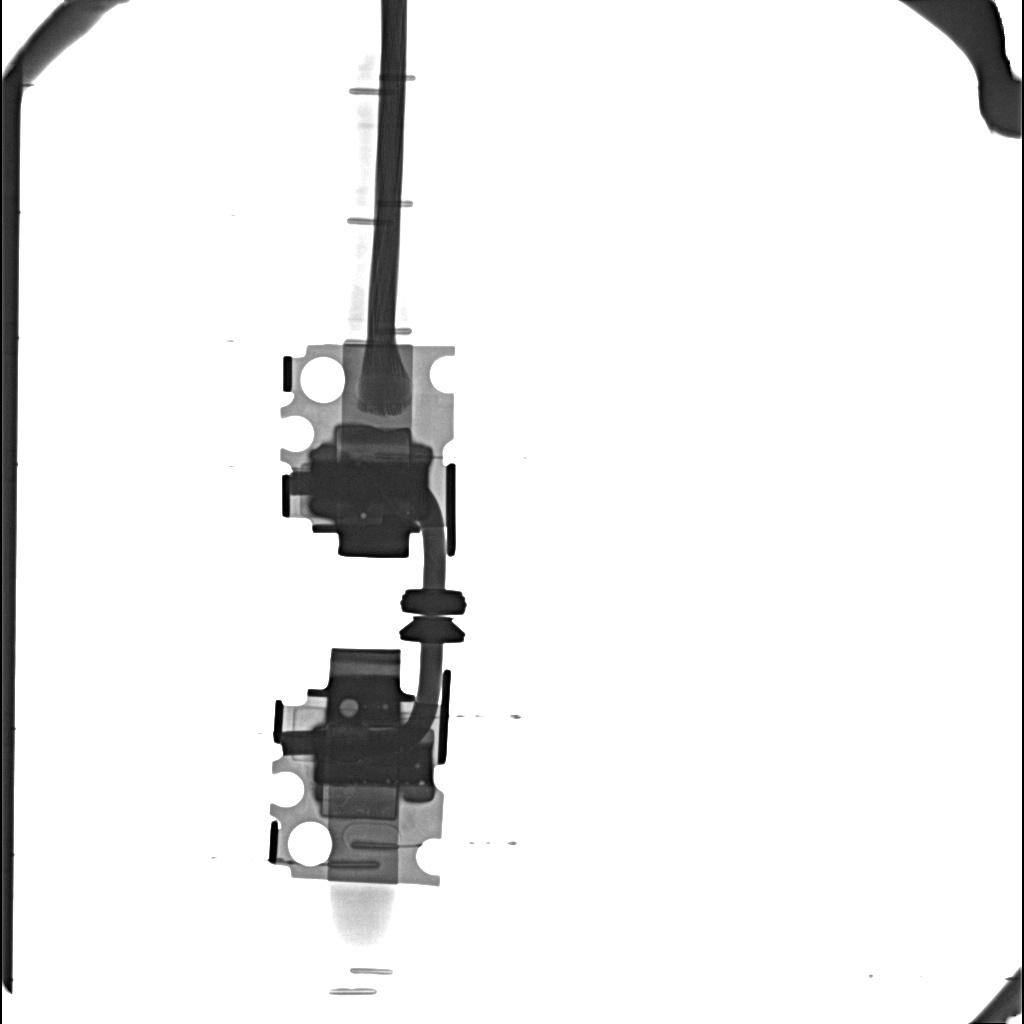气孔: (334, 422, 412, 459), (319, 785, 399, 821)
气泡: (339, 698, 358, 719), (360, 512, 367, 519)
水纹: (313, 734, 432, 782), (308, 463, 430, 506)
